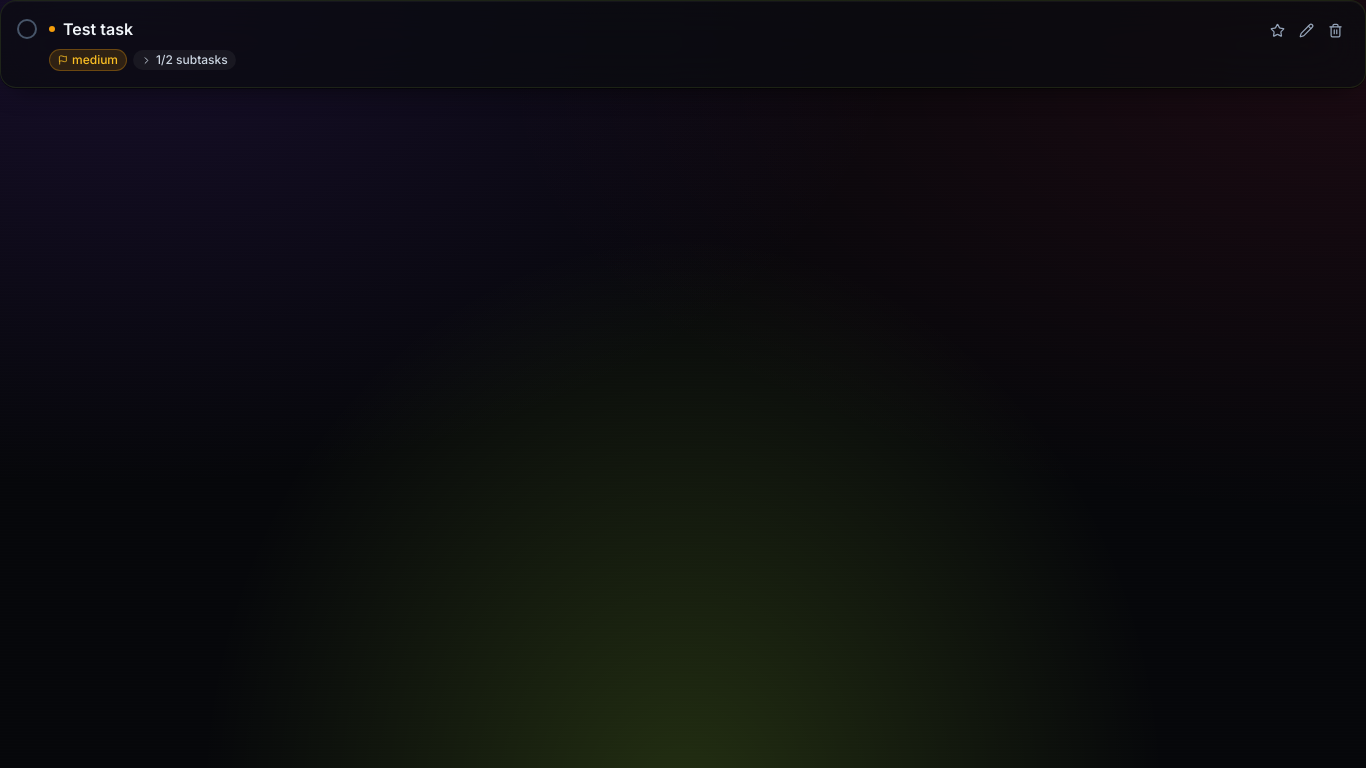
Test case: TaskItem · subtasks › reveals subtask items when chip is clicked
Click the button "1/2 subtasks".
click(184, 60)  # box [133,50,236,70]
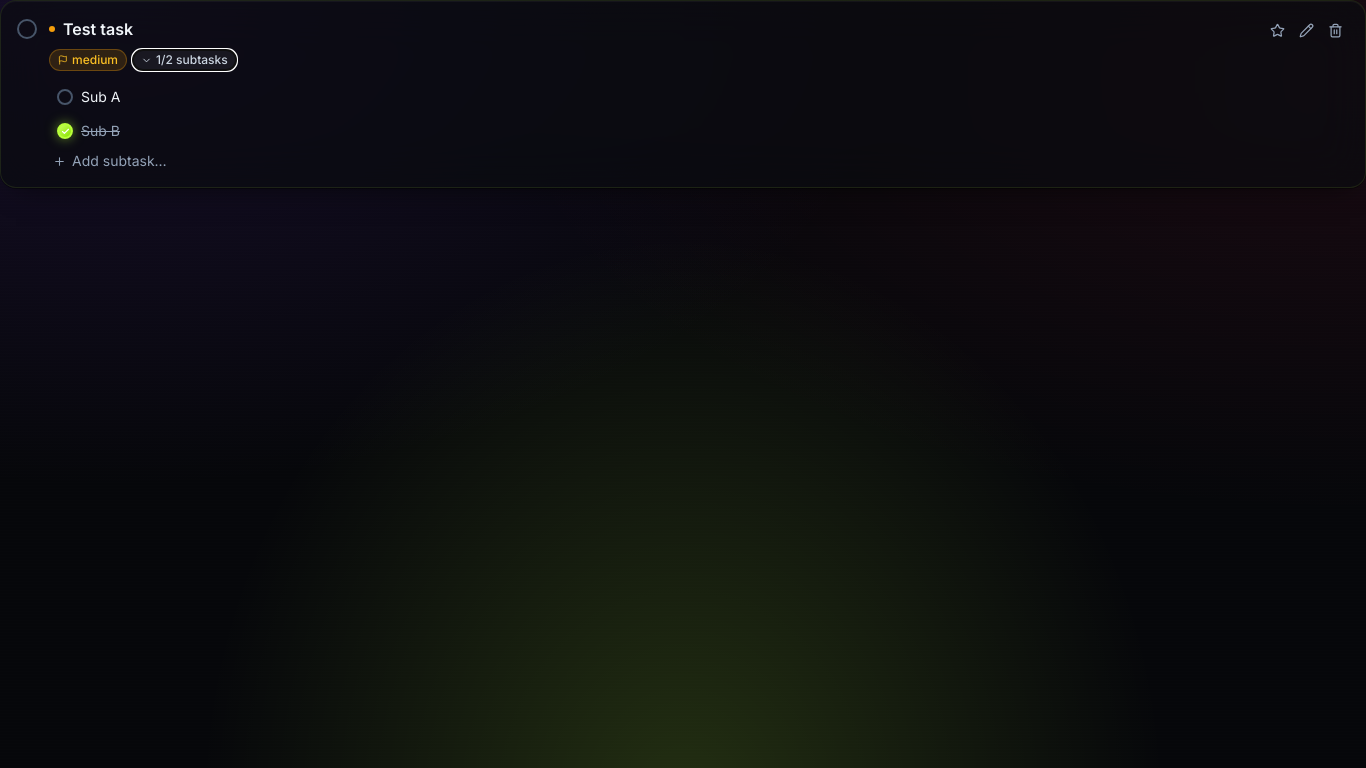
Result: the text "Sub A" is shown at [81,88,120,105]
Result: the text "Sub B" is shown at [81,122,120,139]
